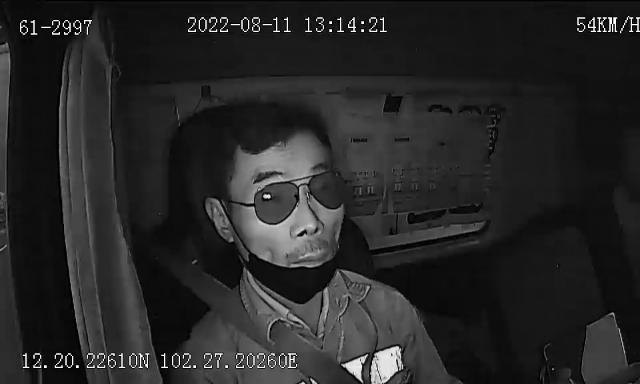SafeDriving: (418, 96, 469, 122), (256, 188, 282, 206)
Seatbelt: (180, 266, 362, 384)
